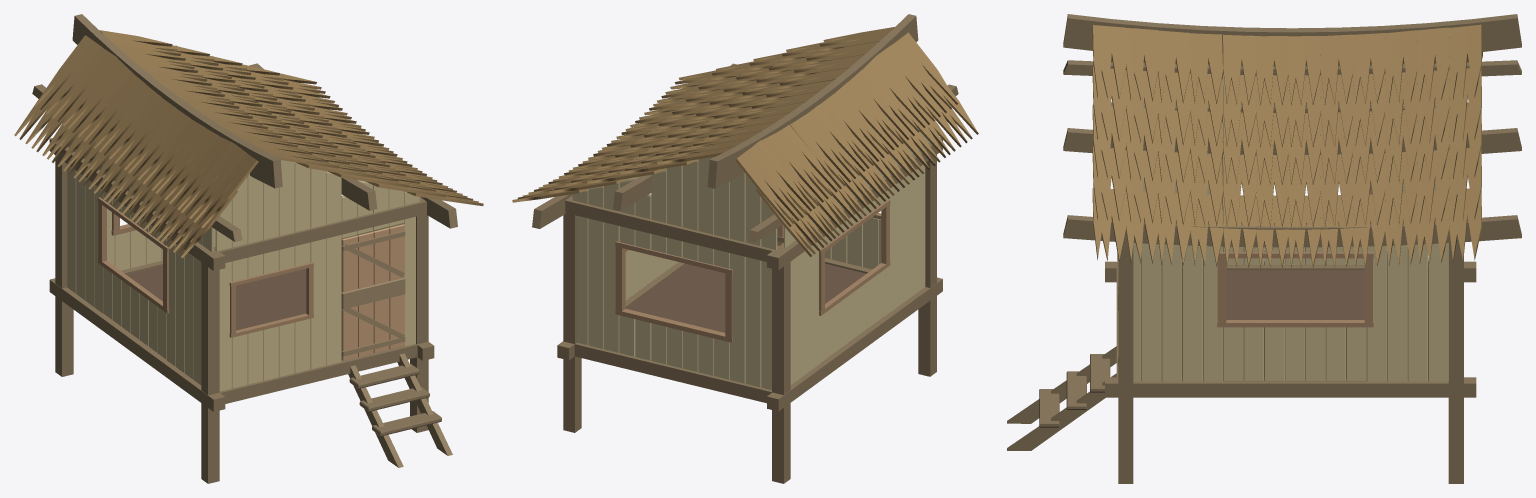
Rendered from bahay.fbx.
3 views of the same model, side by side, from view 1: azimuth 30°, elevation 25°; view 2: azimuth 150°, elevation 25°; view 3: azimuth 270°, elevation 25° (orthographic). The views are drawn at different scales.
Parts seen in each view (by area): view 1: polySurface300; view 2: polySurface300; view 3: polySurface300.
Boxes of the visible parts, box(x1,y1,x2,y2) form: polySurface300: box(14, 14, 483, 483); polySurface300: box(512, 14, 978, 483); polySurface300: box(1007, 14, 1521, 483).
Size of the model in its own units: 12.05 by 12.54 by 15.73.
